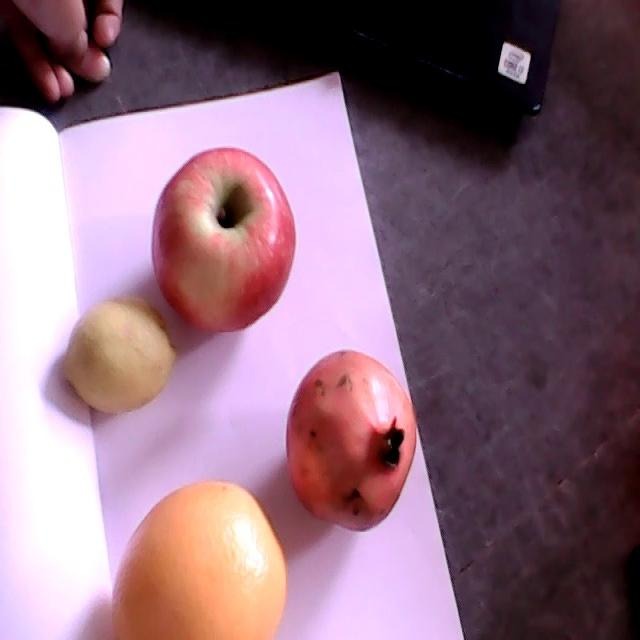apple: (151, 150, 296, 332)
lemon: (61, 299, 175, 414)
orange: (111, 481, 287, 637)
pomegranate: (287, 350, 416, 532)
